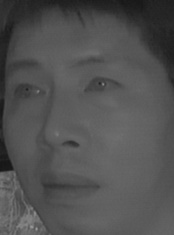eye: (84, 71, 126, 99), (6, 81, 49, 104)
mouth: (37, 166, 102, 209)
